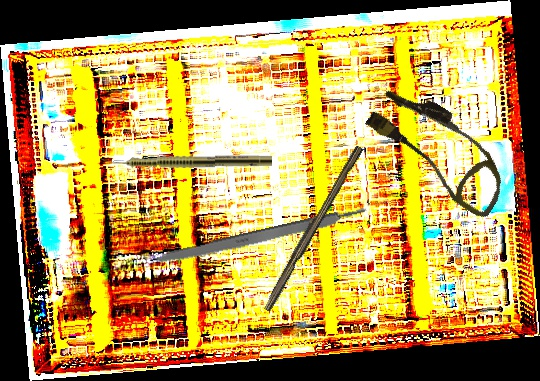Cannula: (355, 77, 524, 221)
Handpiece: (99, 152, 273, 170)
Scalpel Handle: (260, 142, 364, 314), (147, 204, 372, 271)
